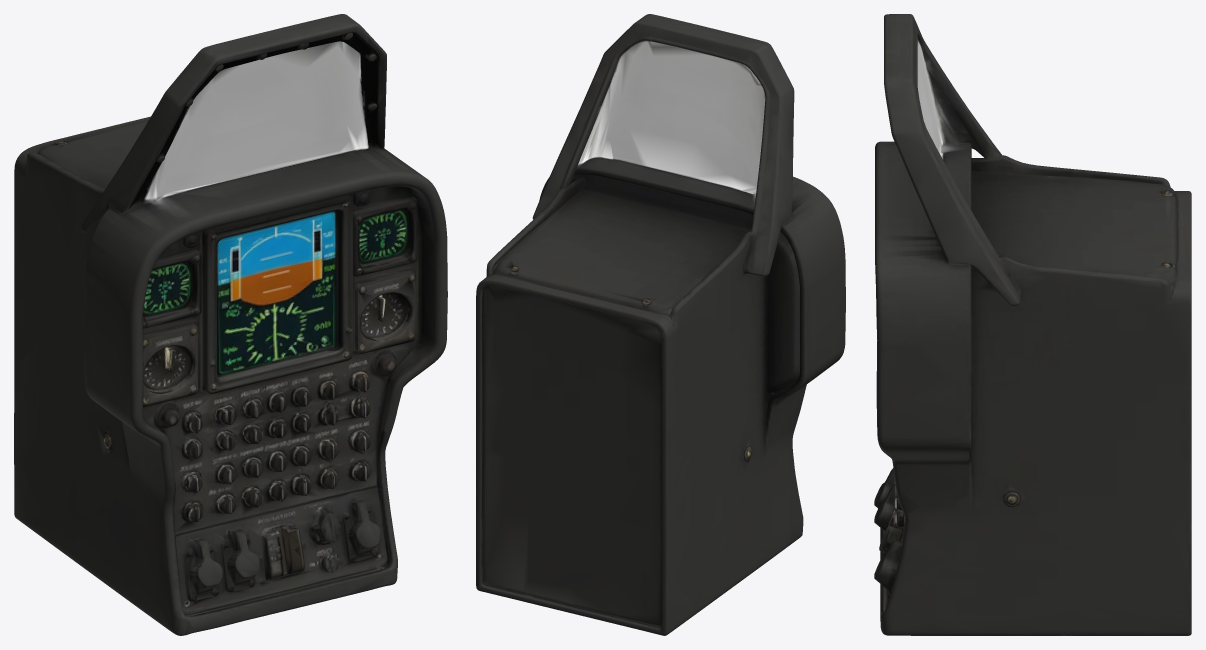
File: planche-de-bord.glb
The picture shows the model from 3 angles, left to right: view 1: azimuth 30°, elevation 25°; view 2: azimuth 150°, elevation 25°; view 3: azimuth 270°, elevation 25°; orthographic projection. The views are drawn at different scales.
Parts seen in each view (by area): view 1: node_0; view 2: node_0; view 3: node_0.
Part boxes in pixels (<box>): node_0: <box>14,14,447,635</box>; node_0: <box>476,14,845,635</box>; node_0: <box>874,14,1191,635</box>.
Bounding box in the file's own units: 0.587 × 1.02 × 0.5373.
1 material, 1 textured.
